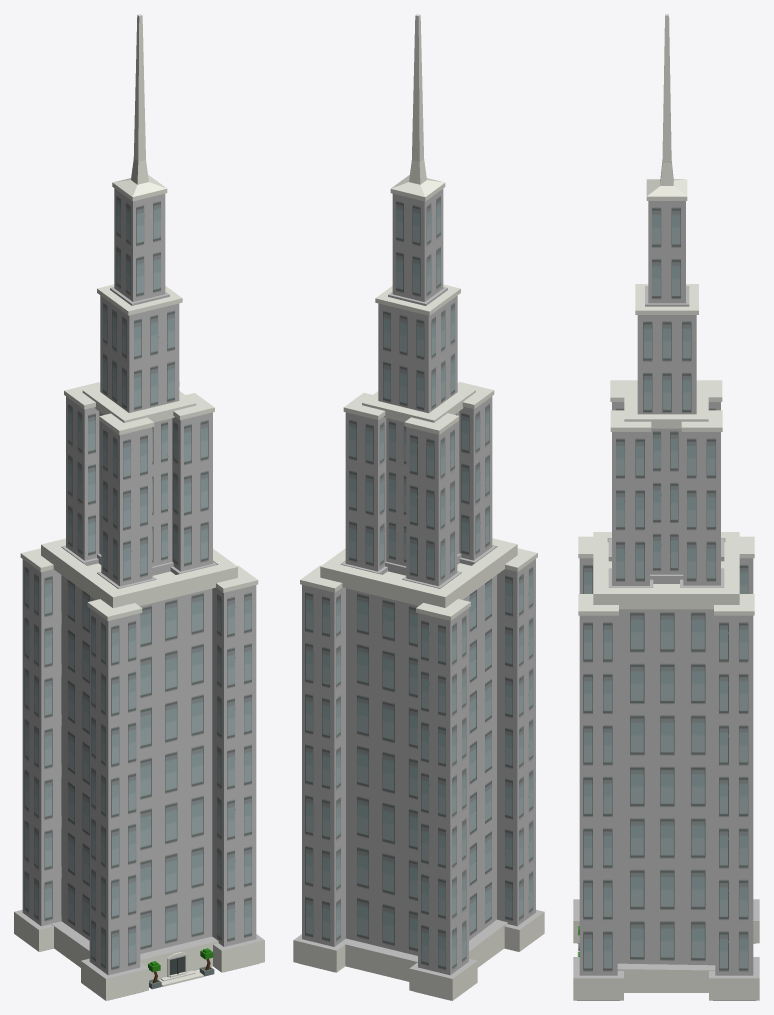
File: Sky Scraper Needle Medium.fbx
3 views of the same model, side by side, from view 1: azimuth 30°, elevation 25°; view 2: azimuth 150°, elevation 25°; view 3: azimuth 270°, elevation 25° (orthographic).
Visible parts, largest first — view 1: Sky Scraper Needle Medium; view 2: Sky Scraper Needle Medium; view 3: Sky Scraper Needle Medium.
Boxes of the visible parts, x1,y1,x2,y2 form: Sky Scraper Needle Medium: (14, 14, 264, 1000); Sky Scraper Needle Medium: (293, 14, 544, 1000); Sky Scraper Needle Medium: (573, 14, 759, 1000).
Bounding box in the file's own units: 7.69 × 43.17 × 7.69.
